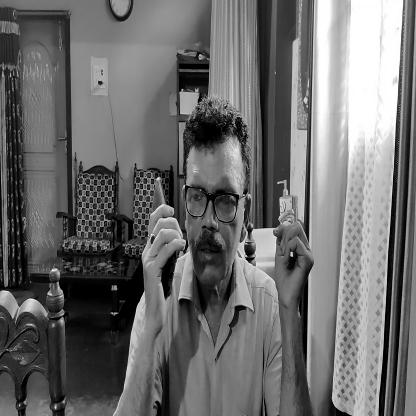Normal: (185, 108, 248, 288)
